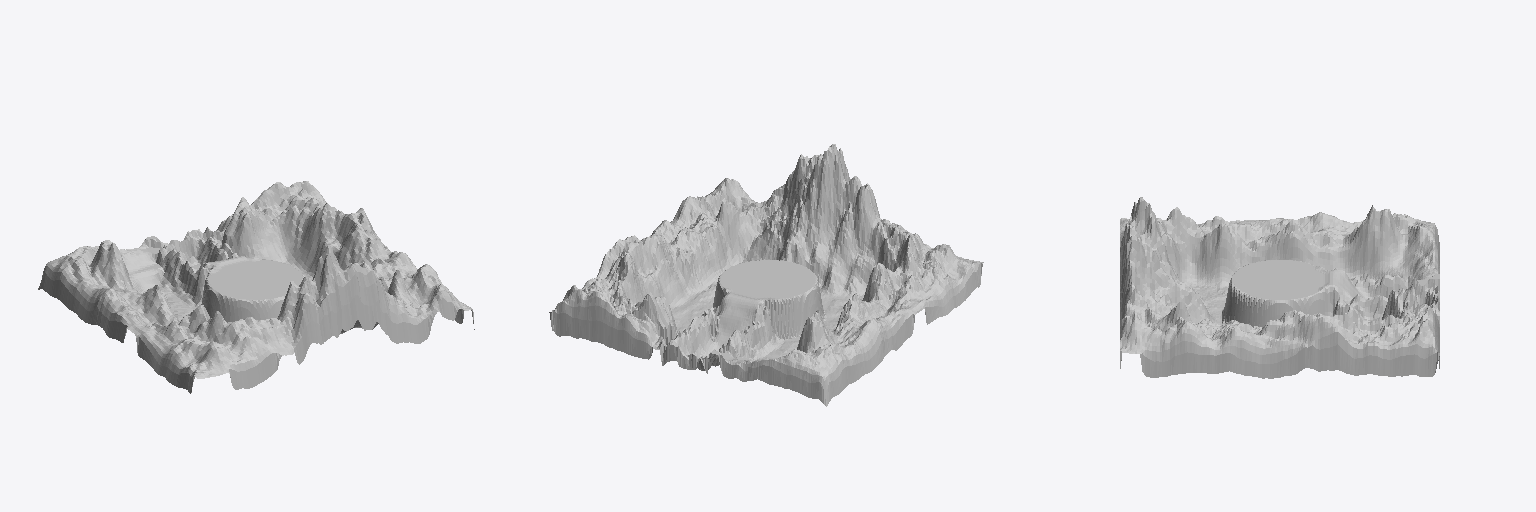
File: Terrain4th.obj
3 renders of one model, left to right at view 1: azimuth 30°, elevation 25°; view 2: azimuth 150°, elevation 25°; view 3: azimuth 270°, elevation 25°, orthographic.
Size of the model in its own units: 100 by 41.53 by 100.